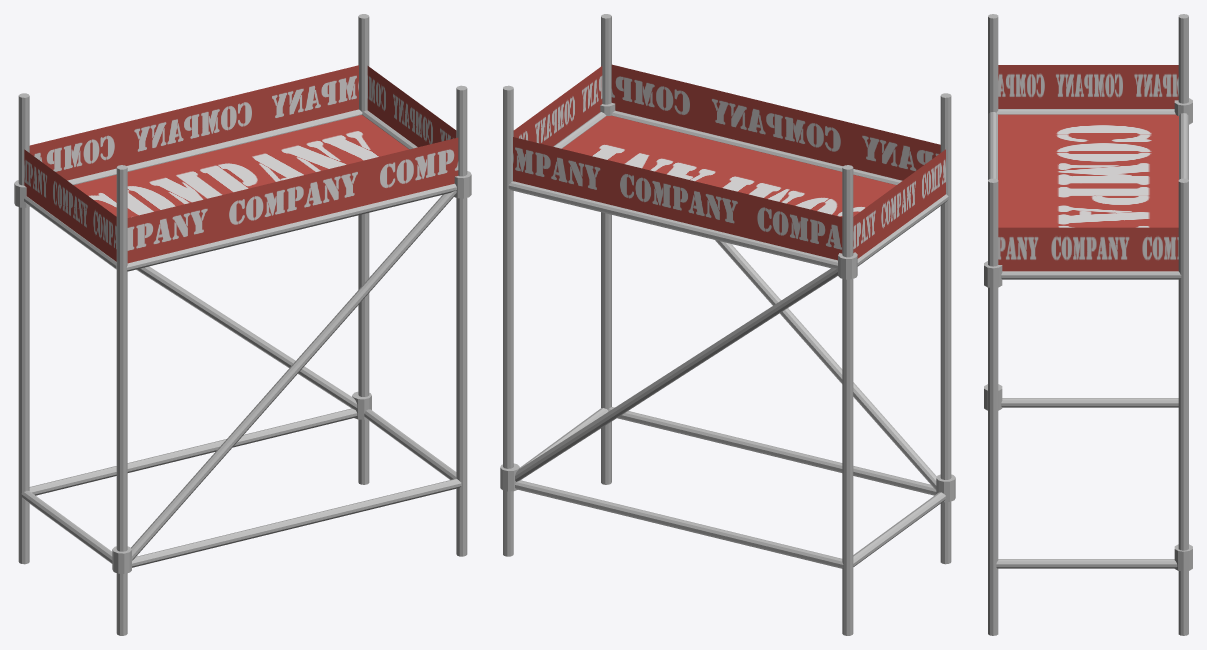
The model's file is geruest_01.fbx.
3 renders of one model, left to right at view 1: azimuth 30°, elevation 25°; view 2: azimuth 150°, elevation 25°; view 3: azimuth 270°, elevation 25°, orthographic. The views are drawn at different scales.
Visible parts, largest first — view 1: geruest, verkleidung_2, verkleidung_1, boden, verkleidung_4, verkleidung_3; view 2: geruest, verkleidung_1, verkleidung_2, boden, verkleidung_4, verkleidung_3; view 3: boden, geruest, verkleidung_3, verkleidung_4.
Part boxes in pixels (<box>): geruest: <box>14,14,471,635</box>; verkleidung_2: <box>127,137,458,263</box>; verkleidung_1: <box>29,65,358,180</box>; boden: <box>74,115,408,217</box>; verkleidung_4: <box>24,149,116,261</box>; verkleidung_3: <box>367,66,456,147</box>; geruest: <box>500,14,955,635</box>; verkleidung_1: <box>513,137,842,260</box>; verkleidung_2: <box>611,64,940,180</box>; boden: <box>562,115,896,216</box>; verkleidung_4: <box>853,149,945,258</box>; verkleidung_3: <box>513,66,602,146</box>; boden: <box>998,114,1178,227</box>; geruest: <box>984,14,1192,635</box>; verkleidung_3: <box>998,227,1178,271</box>; verkleidung_4: <box>998,65,1178,108</box>.
Bounding box in the file's own units: 6.3 × 7.93 × 3.29.
2 materials, 1 textured.
